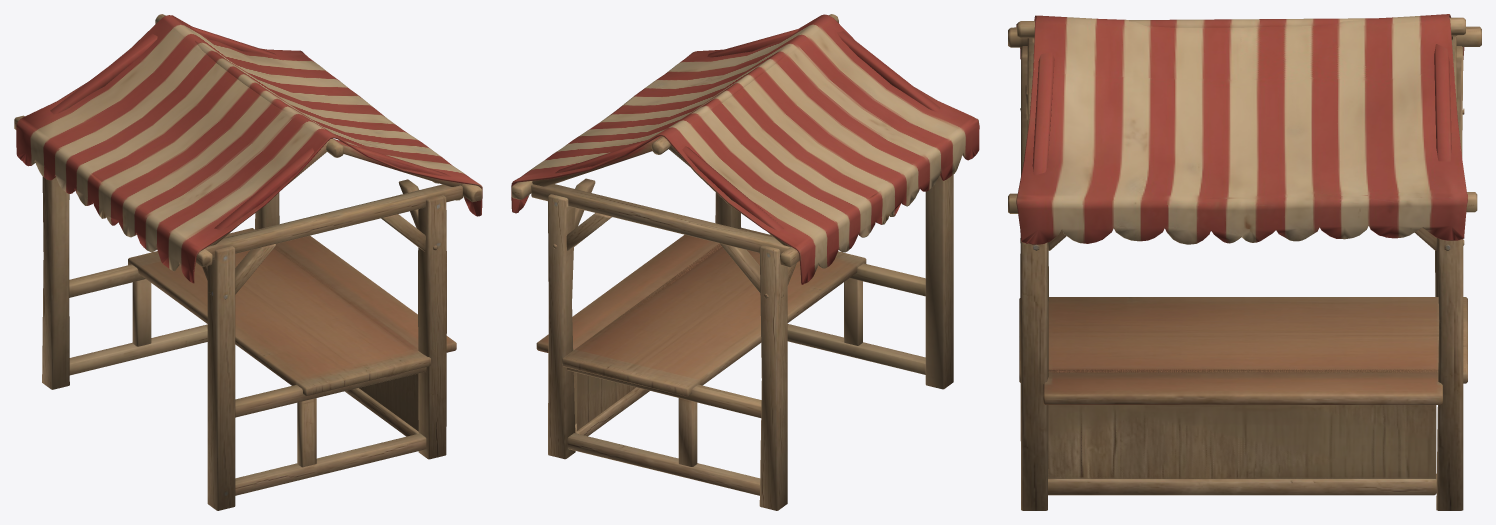
The picture shows the model from 3 angles, left to right: view 1: azimuth 30°, elevation 25°; view 2: azimuth 150°, elevation 25°; view 3: azimuth 270°, elevation 25°; orthographic projection. The views are drawn at different scales.
Visible parts, largest first — view 1: tripo_node_0a00ca12-7766-480c-ac9b-e4d4b32cf71b; view 2: tripo_node_0a00ca12-7766-480c-ac9b-e4d4b32cf71b; view 3: tripo_node_0a00ca12-7766-480c-ac9b-e4d4b32cf71b.
Part boxes in pixels (x1,y1,x2,y2): tripo_node_0a00ca12-7766-480c-ac9b-e4d4b32cf71b: (14, 14, 482, 510); tripo_node_0a00ca12-7766-480c-ac9b-e4d4b32cf71b: (511, 14, 979, 510); tripo_node_0a00ca12-7766-480c-ac9b-e4d4b32cf71b: (1008, 14, 1481, 510).
Size of the model in its own units: 0.8848 by 0.998 by 0.998.
1 material, 1 textured.
